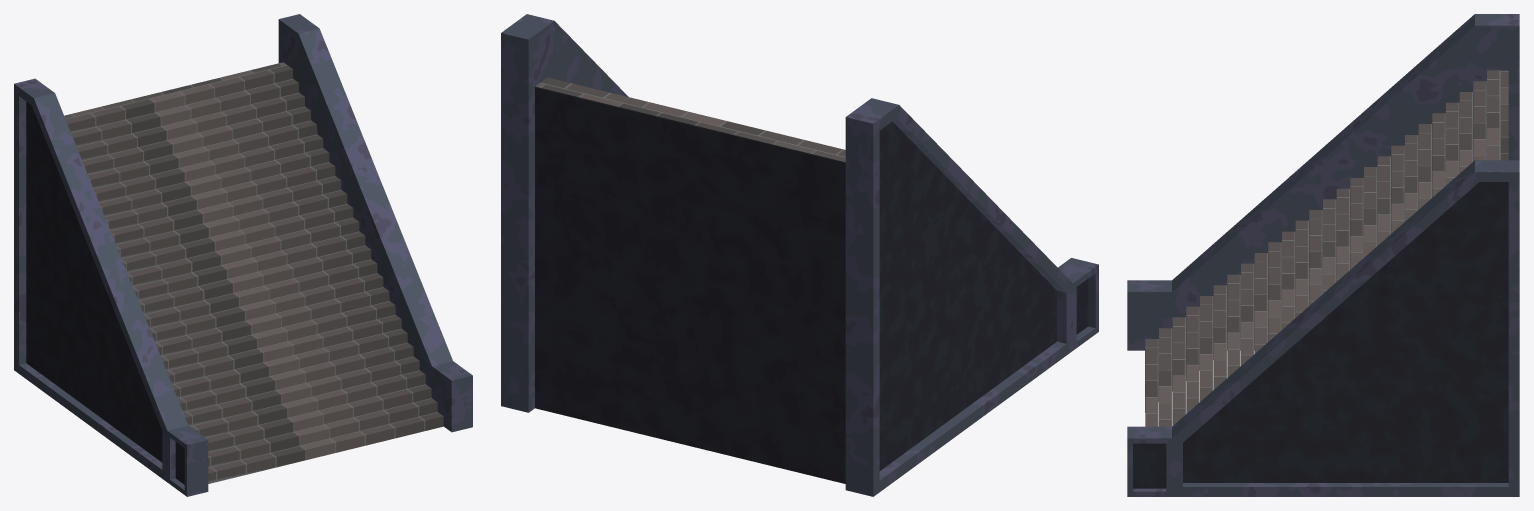
Rendered from MainStair.fbx.
3 renders of one model, left to right at view 1: azimuth 30°, elevation 25°; view 2: azimuth 150°, elevation 25°; view 3: azimuth 270°, elevation 25°, orthographic. The views are drawn at different scales.
Parts seen in each view (by area): view 1: MainStair; view 2: MainStair; view 3: MainStair.
Boxes of the visible parts, x1=… form: MainStair: x1=14, y1=14, x2=472, y2=496; MainStair: x1=501, y1=14, x2=1098, y2=496; MainStair: x1=1127, y1=14, x2=1519, y2=496.
Size of the model in its own units: 11.74 by 11.25 by 12.32.
